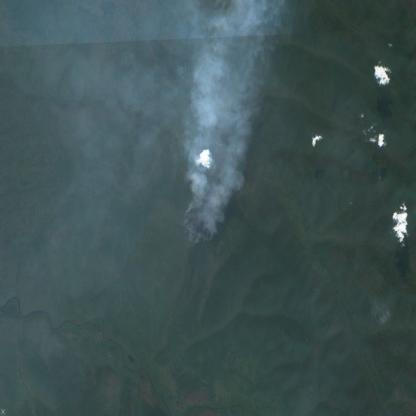fire: (183, 196, 222, 248)
